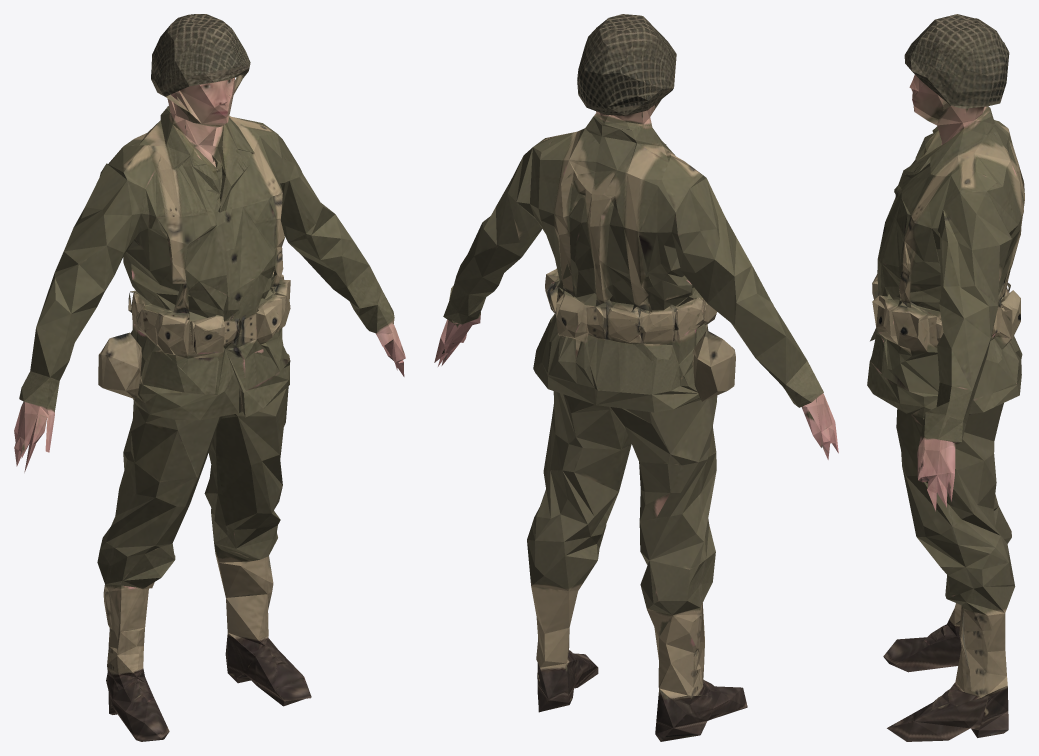
The model's file is soldado_us.obj.
The picture shows the model from 3 angles, left to right: view 1: azimuth 30°, elevation 25°; view 2: azimuth 150°, elevation 25°; view 3: azimuth 270°, elevation 25°; orthographic projection.
Parts seen in each view (by area): view 1: soldado; view 2: soldado; view 3: soldado.
Boxes of the visible parts, <box> form: soldado: <box>14,14,405,741</box>; soldado: <box>434,14,838,741</box>; soldado: <box>867,14,1024,741</box>.
Bounding box in the file's own units: 1.06 × 1.78 × 0.3738.
1 material, 1 textured.
